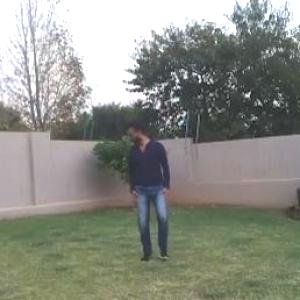follow: (129, 113, 172, 258)
